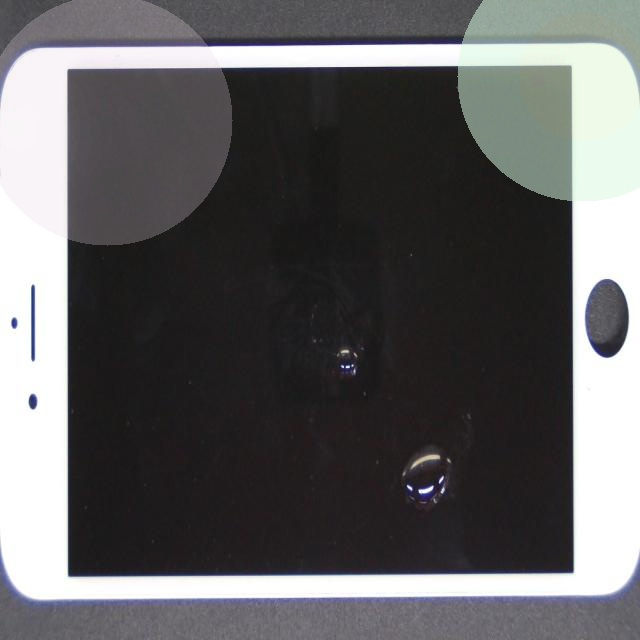oil: (241, 238, 640, 640), (186, 195, 552, 532)
